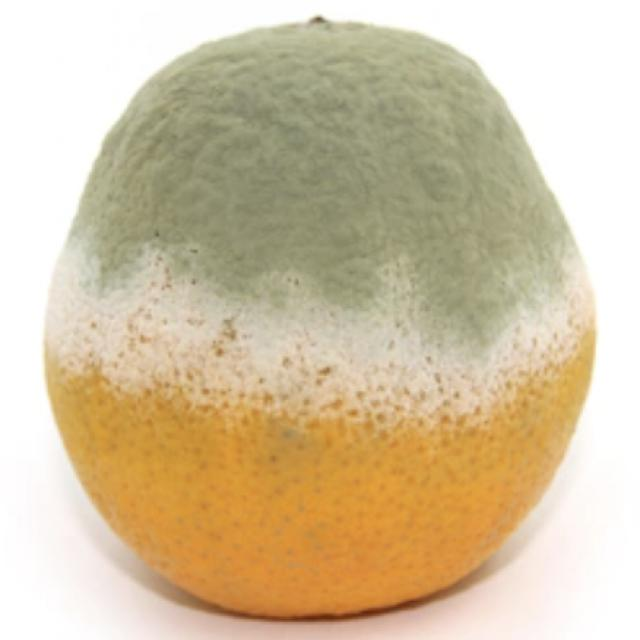rotten-orange: (40, 25, 594, 614)
